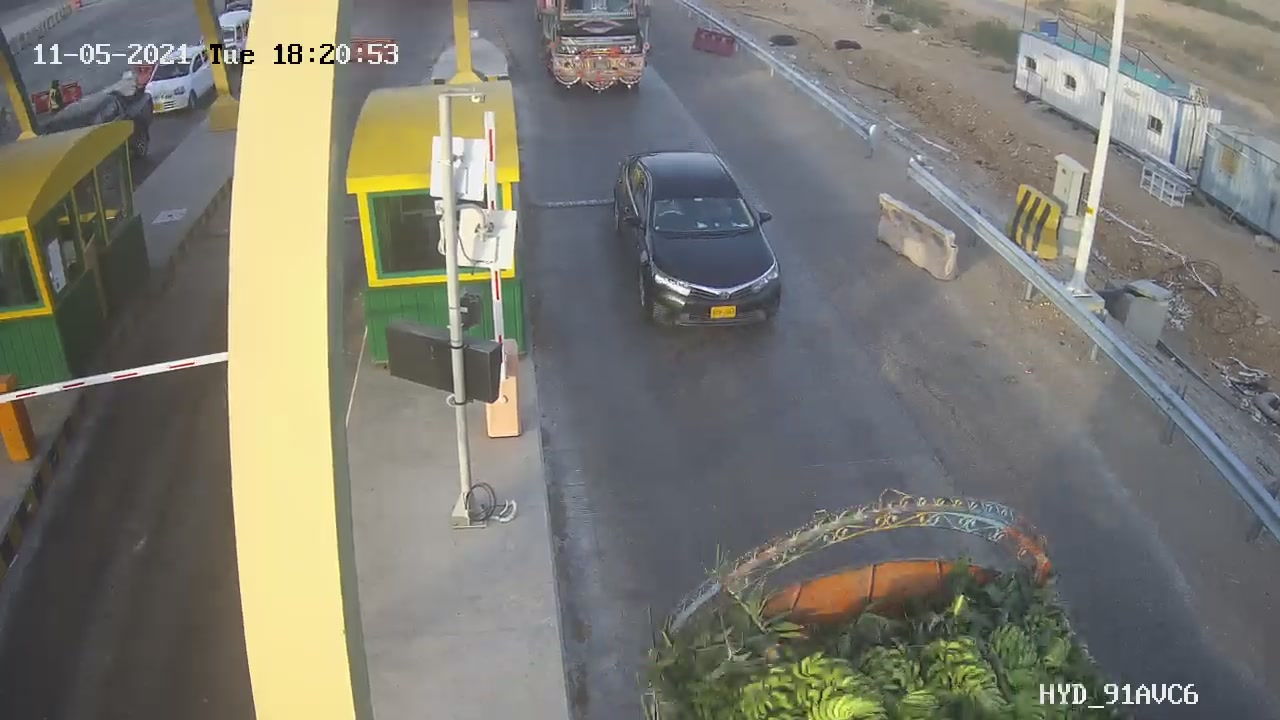F1: (608, 148, 804, 348)
